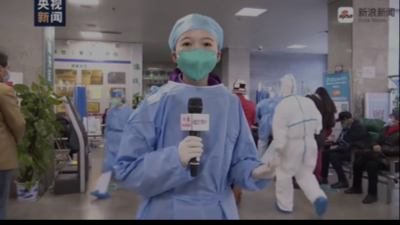with_mask: (174, 34, 219, 80), (2, 66, 11, 83), (387, 116, 399, 127), (111, 95, 122, 106), (340, 119, 351, 130)
